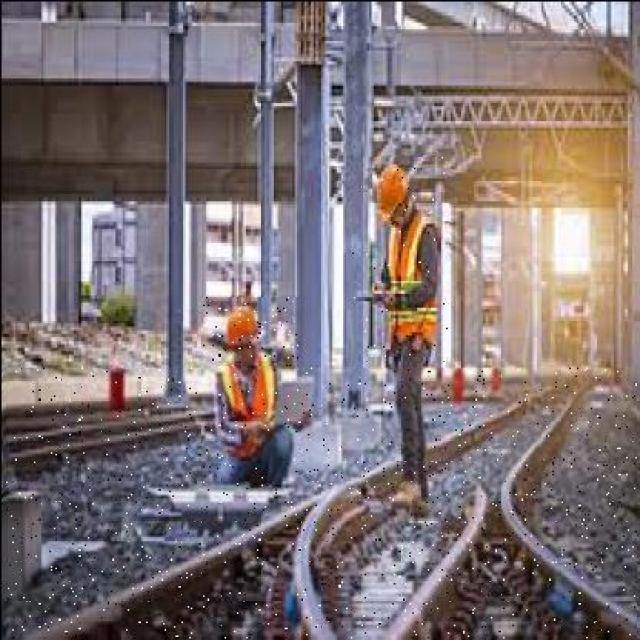rail: (10, 369, 636, 638)
